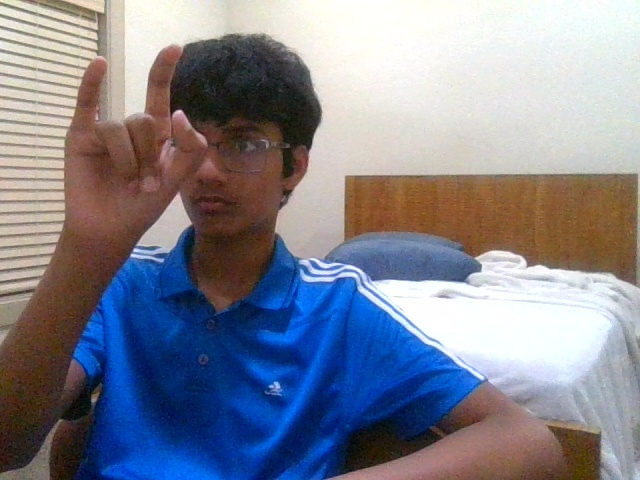ly: (64, 44, 208, 241)
